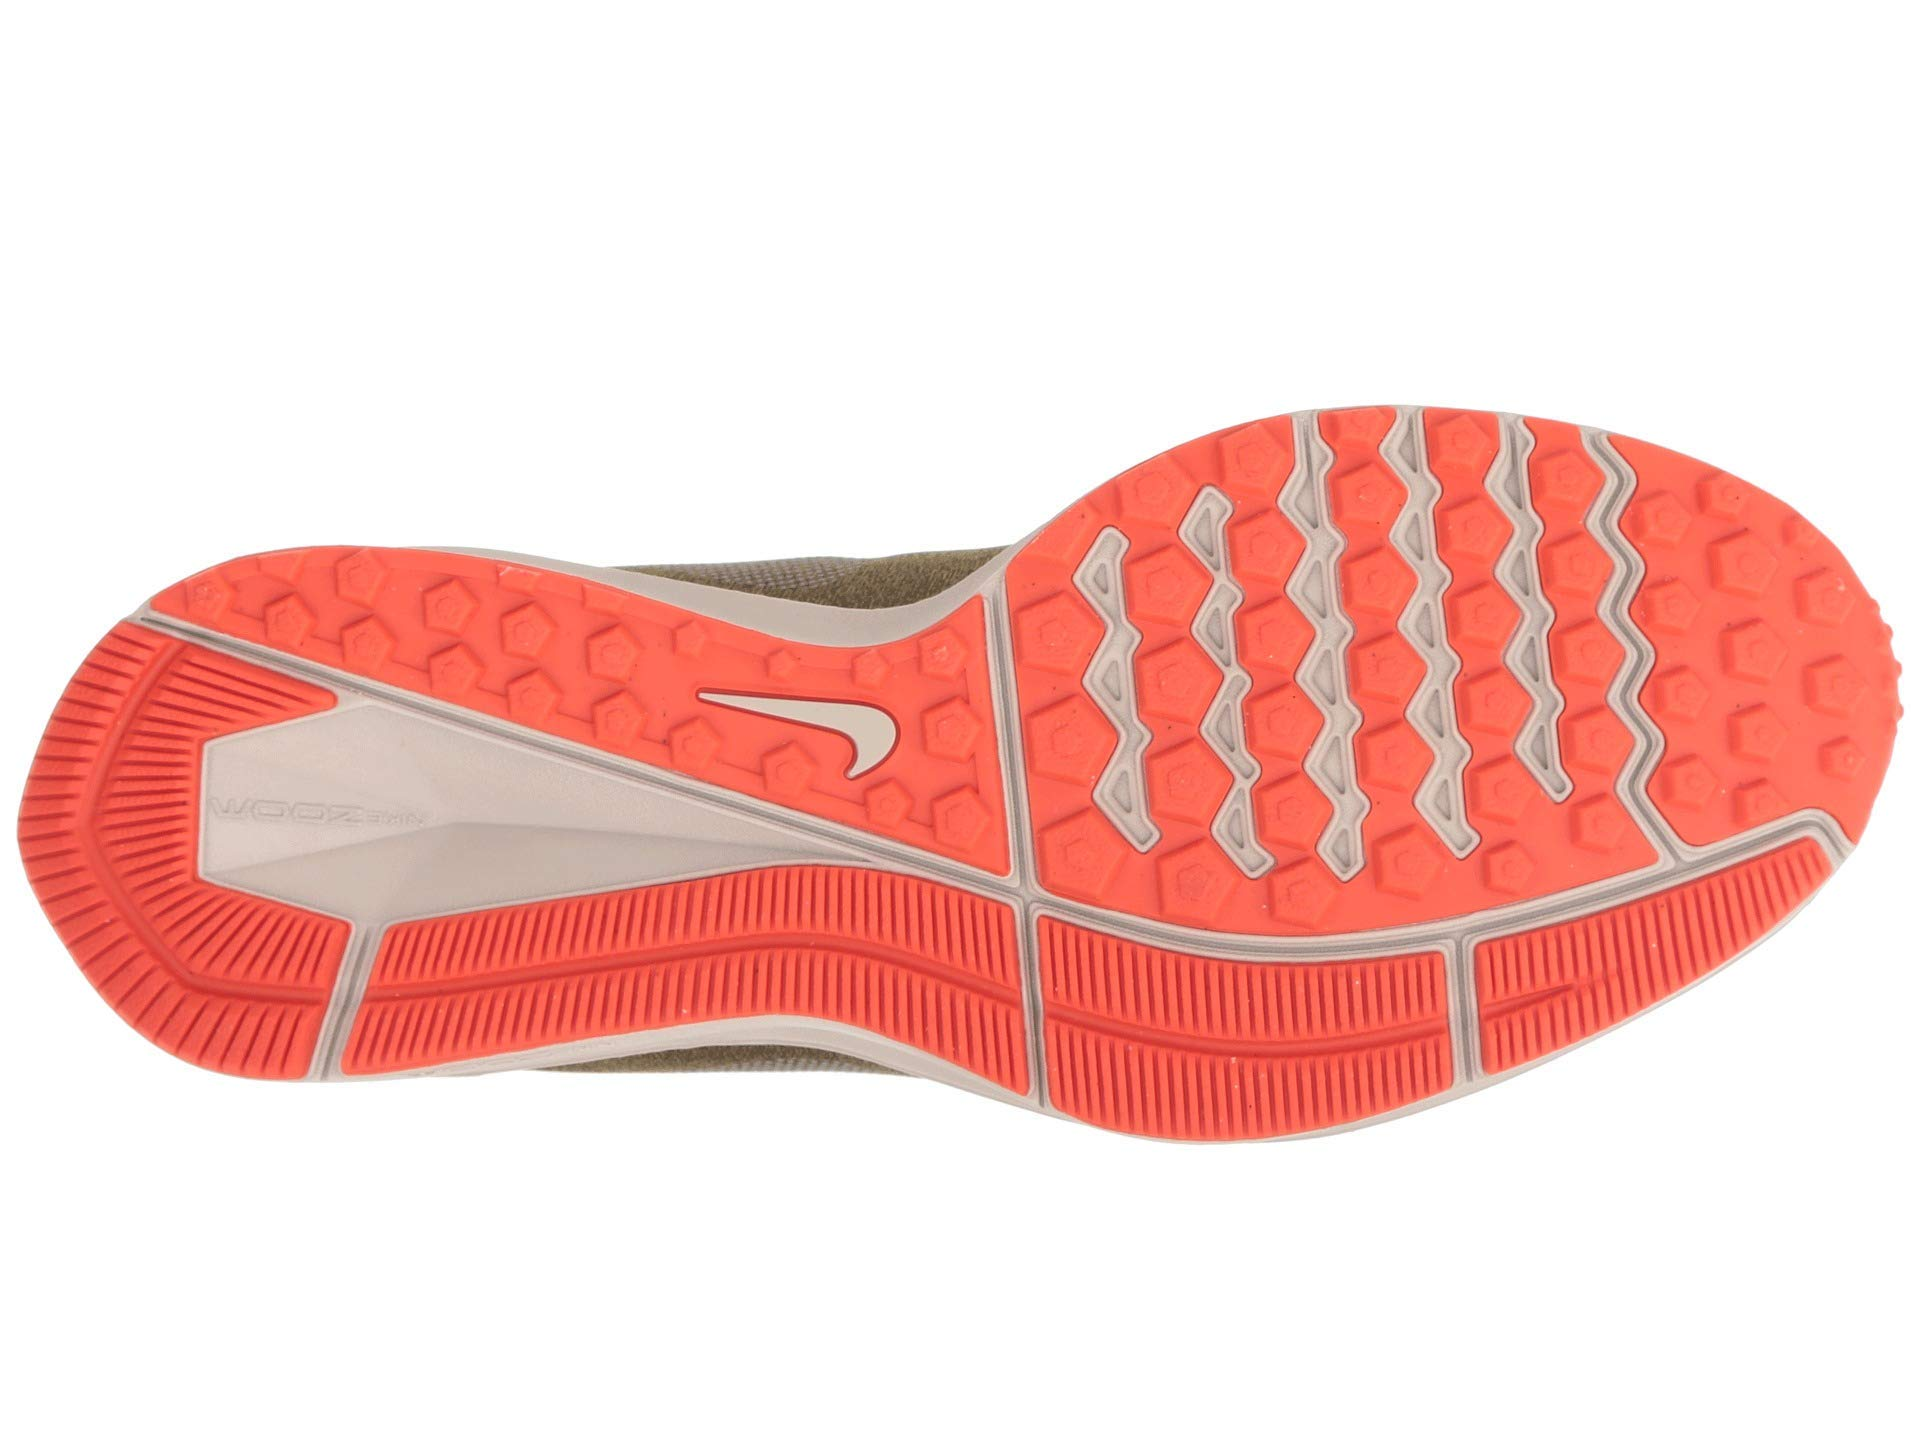chevron: (682, 610, 928, 835)
circle: (1144, 489, 1589, 892), (682, 610, 928, 835)
polygon: (1144, 489, 1589, 892), (682, 610, 928, 835)
quad: (652, 839, 856, 1041)
triangle: (1144, 489, 1589, 892)
